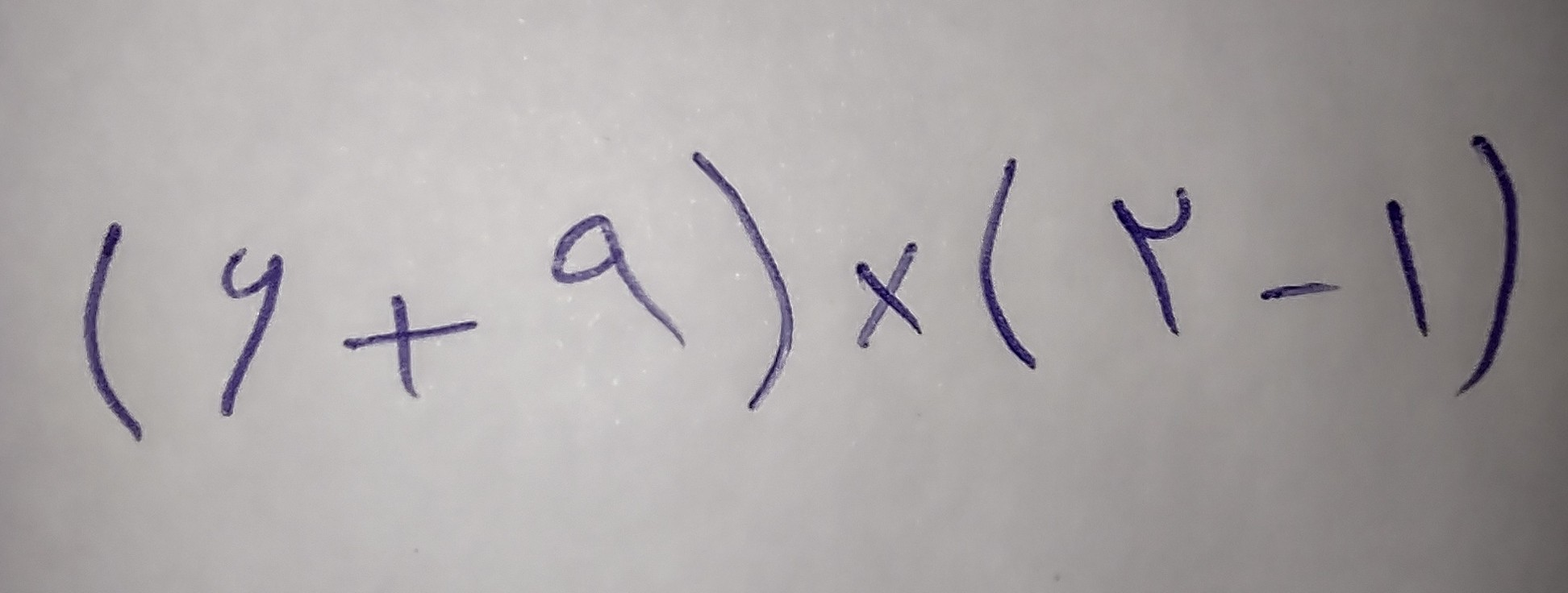character: (693, 150, 798, 413), (551, 214, 688, 351), (1452, 133, 1522, 401), (82, 222, 147, 443), (343, 295, 476, 402), (978, 157, 1039, 369), (1112, 186, 1195, 341), (219, 248, 284, 420), (855, 242, 924, 349), (1386, 198, 1431, 342), (1259, 280, 1341, 300)
